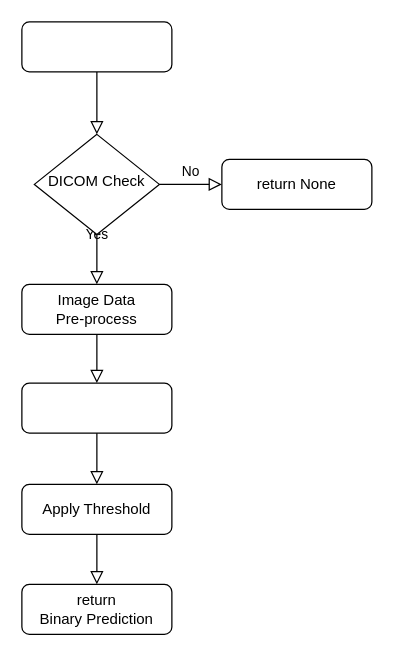
The diagram is 394 pixels wide and 656 high, and some of its shapes have lost their labels. The box of each missing label's shape, as (x1, y1, x2, y2) in pixels:
CNN Inference: (21, 382, 172, 433)
DICOM File Load: (21, 21, 172, 72)
